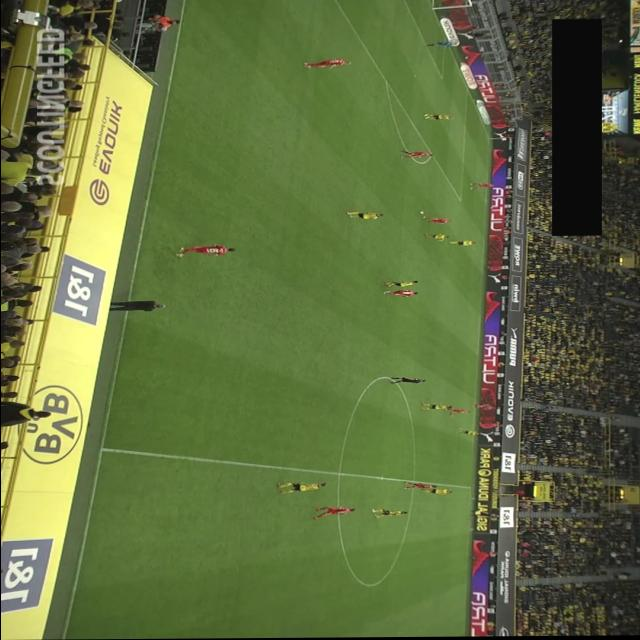goalkeeper: (424, 42, 456, 48)
player: (173, 245, 236, 257), (311, 505, 355, 521), (276, 482, 326, 494), (302, 59, 350, 69), (371, 509, 407, 519), (346, 212, 383, 220), (403, 482, 435, 491), (382, 290, 418, 298), (419, 403, 451, 411), (400, 151, 432, 159), (383, 281, 418, 288), (422, 217, 451, 225), (423, 114, 454, 121), (424, 233, 448, 242), (422, 489, 452, 496), (446, 409, 469, 418), (470, 403, 494, 411), (468, 183, 494, 190), (457, 428, 479, 436), (448, 240, 476, 246)
referee: (389, 377, 425, 384), (468, 510, 496, 518)
